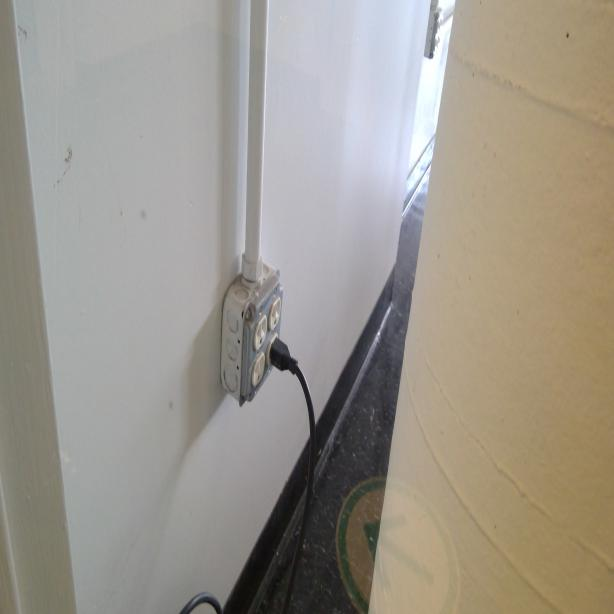typeb: (252, 359, 267, 387), (254, 319, 267, 346), (270, 299, 282, 327)
